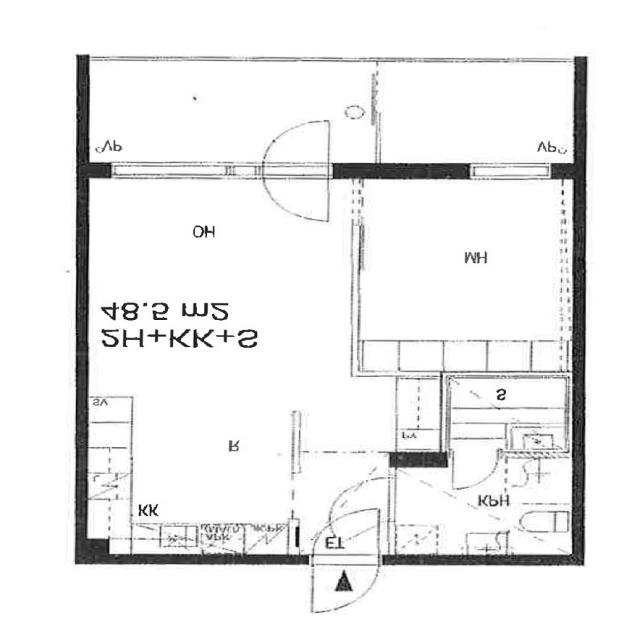door: (264, 163, 328, 225), (264, 117, 328, 179), (313, 508, 379, 564), (313, 555, 379, 610), (328, 478, 397, 520), (454, 450, 499, 489)
